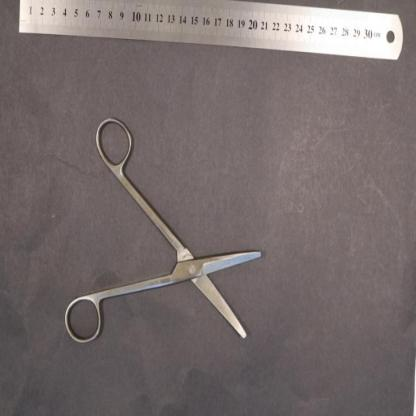Curved Mayo Scissors: (63, 114, 262, 344)
